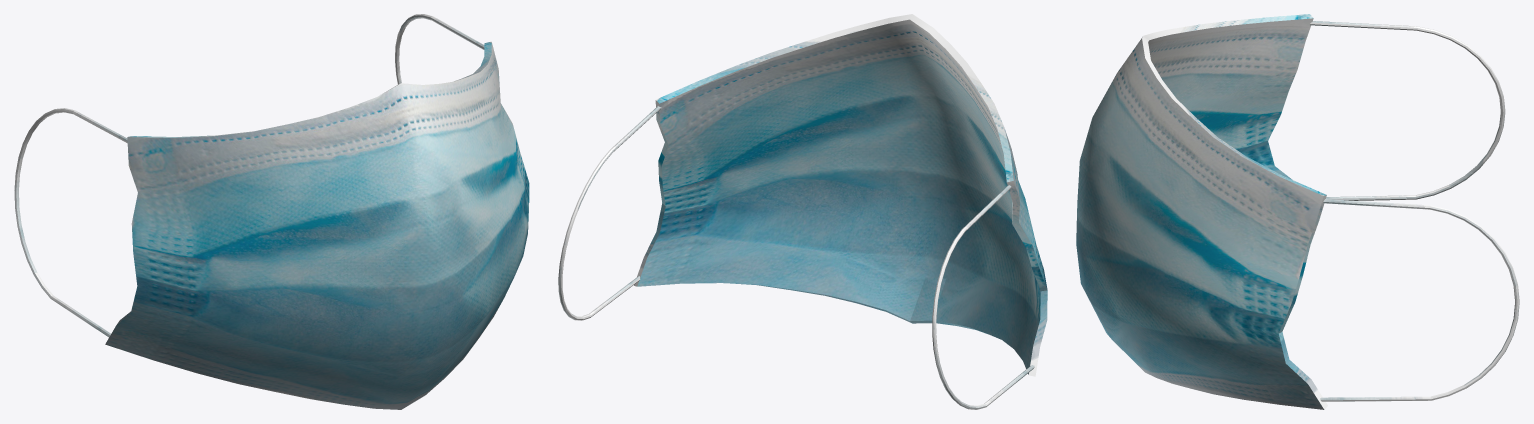
The model's file is SurgicalMask.glb.
The picture shows the model from 3 angles, left to right: view 1: azimuth 30°, elevation 25°; view 2: azimuth 150°, elevation 25°; view 3: azimuth 270°, elevation 25°; orthographic projection. The views are drawn at different scales.
Visible parts, largest first — view 1: FaceMask; view 2: FaceMask; view 3: FaceMask.
Boxes of the visible parts, bbox=[...] form: FaceMask: bbox=[14, 14, 529, 409]; FaceMask: bbox=[558, 14, 1047, 409]; FaceMask: bbox=[1076, 14, 1519, 409].
Bounding box in the file's own units: 36.18 × 27.02 × 33.06.
Materials: 2 (2 with a texture image).
